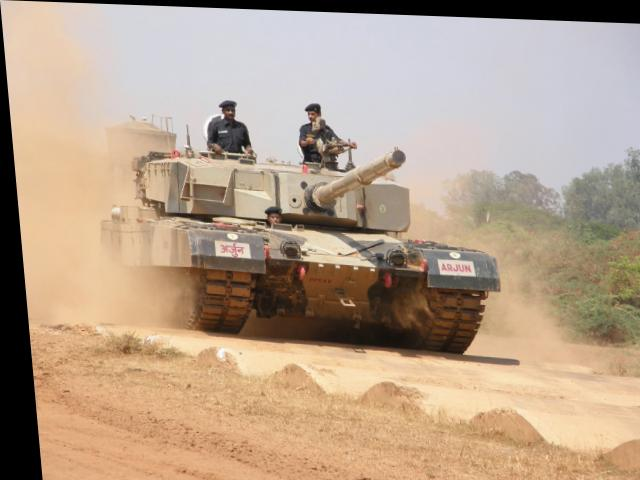other: (143, 75, 276, 161), (282, 86, 352, 172)
tank: (77, 144, 478, 343)
